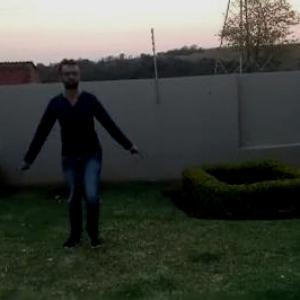land: (3, 52, 136, 273)
